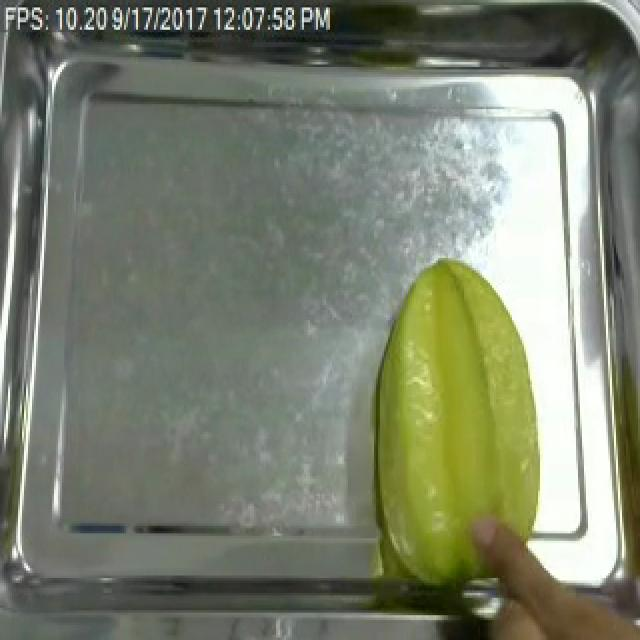fruit: (356, 253, 554, 603)
